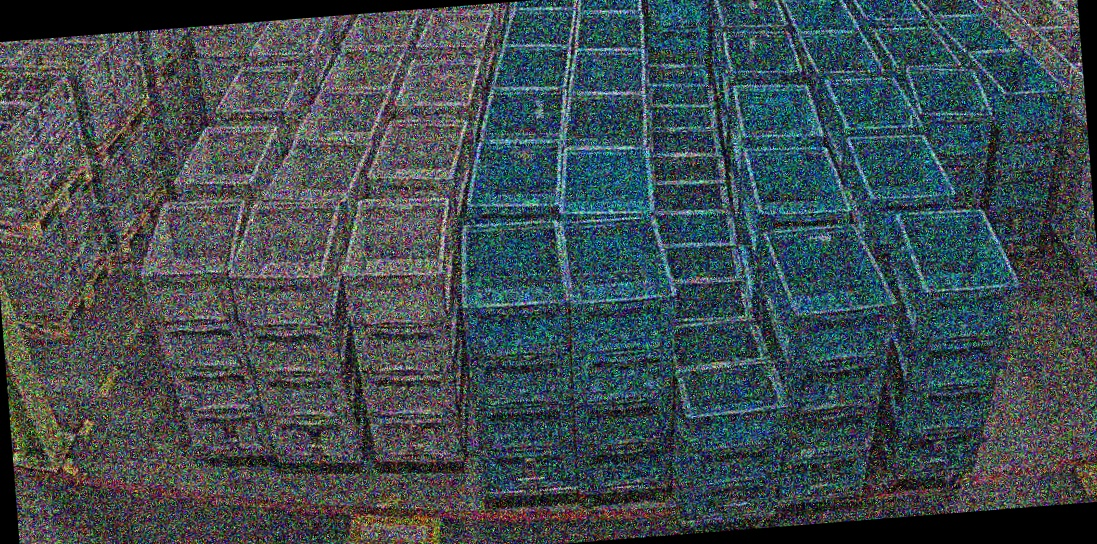4G: (223, 192, 372, 468), (133, 193, 277, 463), (335, 190, 474, 468)
B4: (861, 202, 1034, 478), (747, 220, 913, 503), (557, 212, 694, 493), (455, 216, 587, 497), (903, 59, 1003, 214)
B8: (660, 313, 799, 524)
